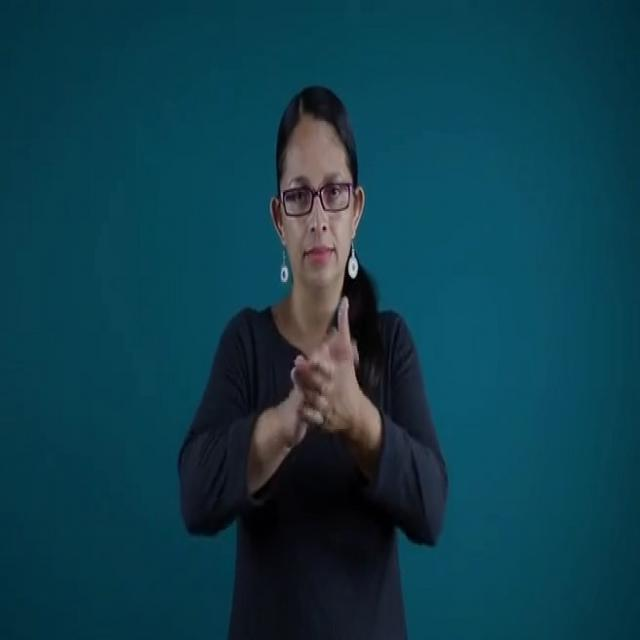burger: (264, 292, 376, 504)
